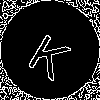K: (25, 25, 78, 81)
